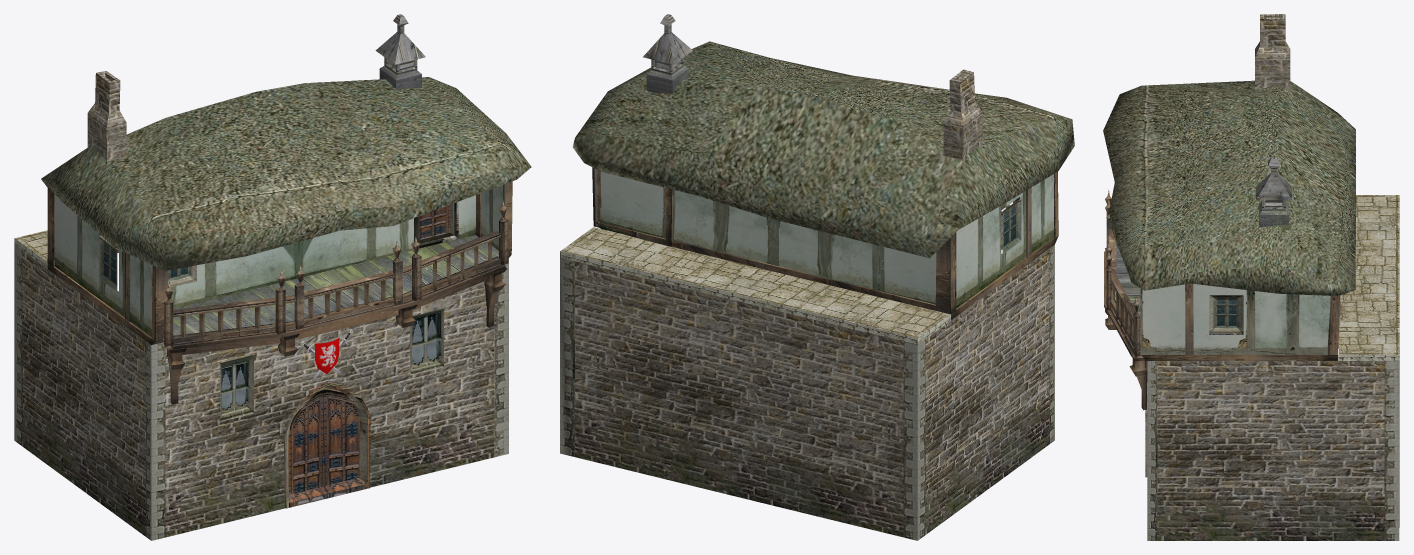
The model's file is building_queens_solar.glb.
3 views of the same model, side by side, from view 1: azimuth 30°, elevation 25°; view 2: azimuth 150°, elevation 25°; view 3: azimuth 270°, elevation 25° (orthographic). The views are drawn at different scales.
Visible parts, largest first — view 1: building_queens_solar; view 2: building_queens_solar; view 3: building_queens_solar.
Part boxes in pixels (box(x1,y1,x2,y2)): building_queens_solar: box(14, 14, 531, 540); building_queens_solar: box(560, 14, 1074, 540); building_queens_solar: box(1103, 14, 1399, 540).
Size of the model in its own units: 13.89 by 13.42 by 9.62.
9 materials, 9 textured.
